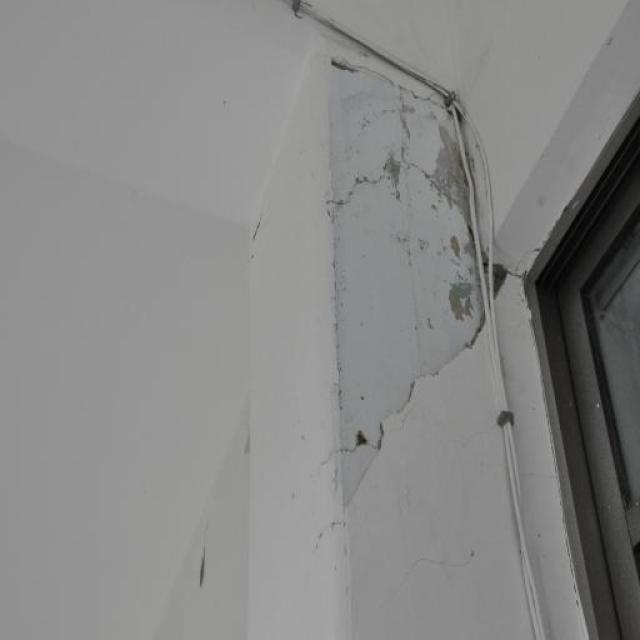D10: (330, 64, 484, 502)
